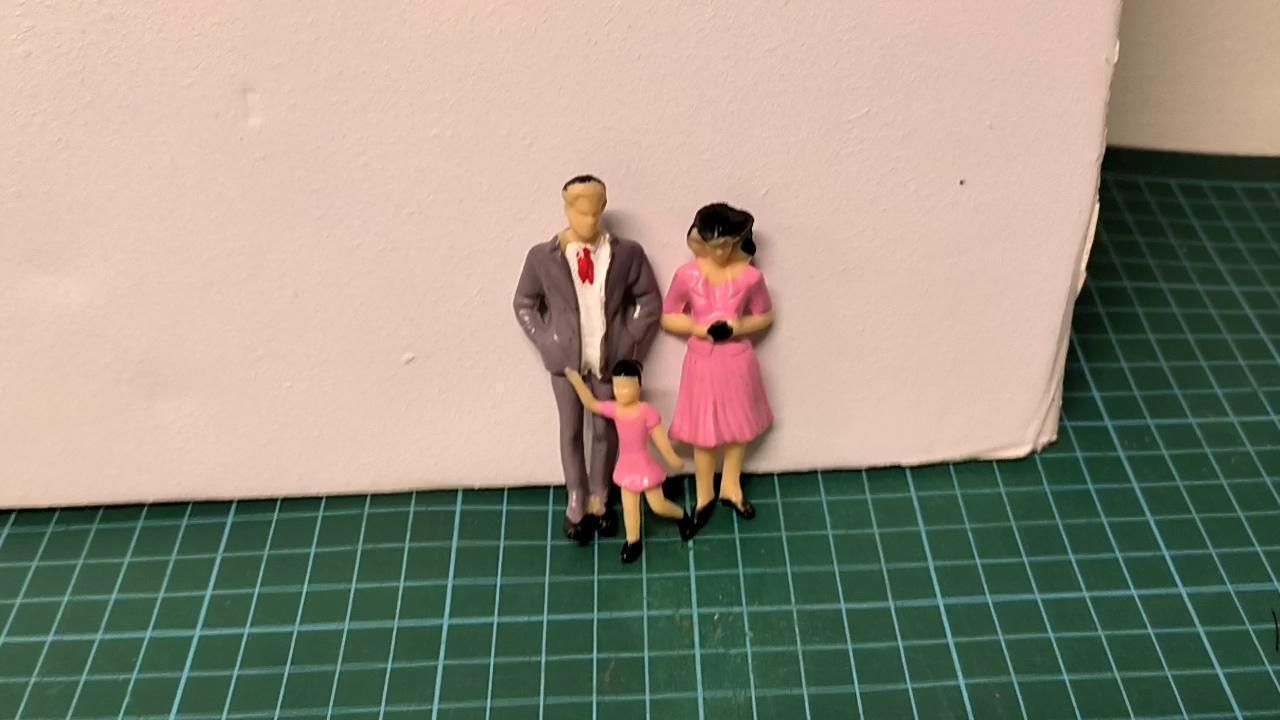human: (495, 167, 668, 547), (663, 201, 780, 542), (561, 354, 706, 568)
